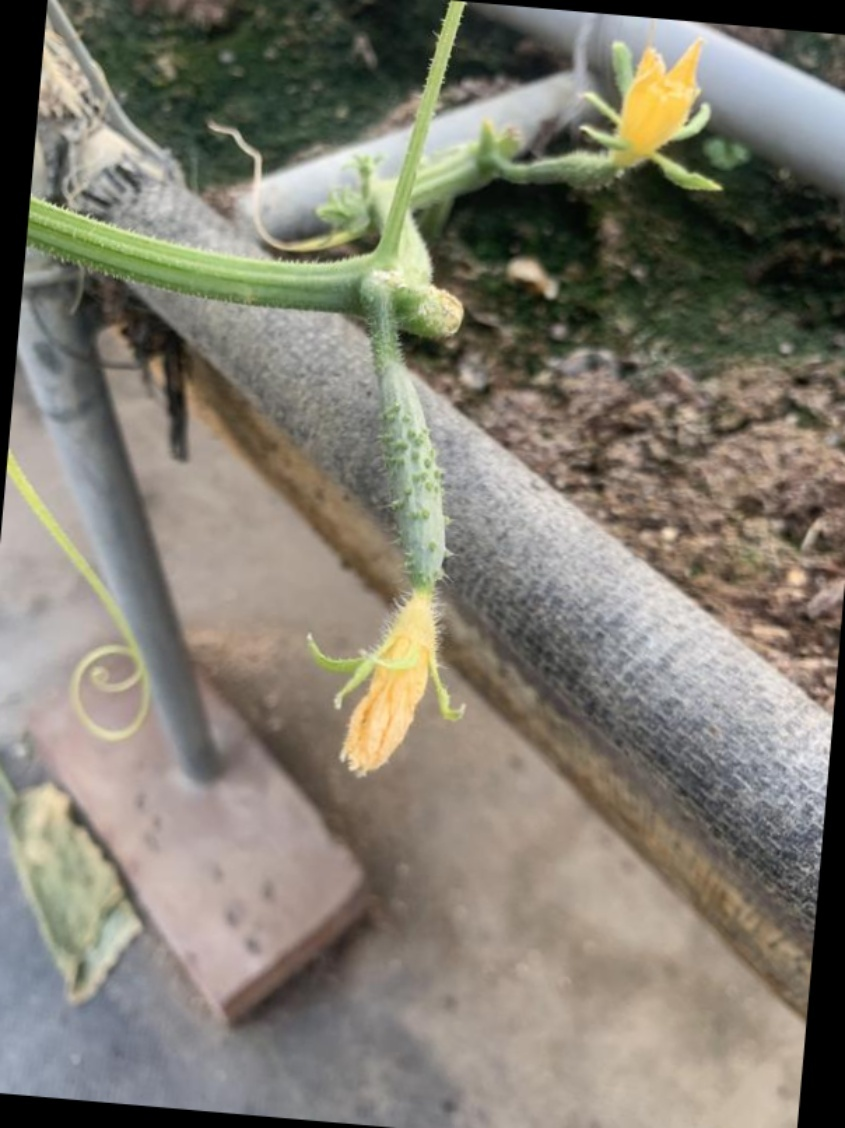bear: (322, 325, 485, 786), (520, 40, 716, 205)
